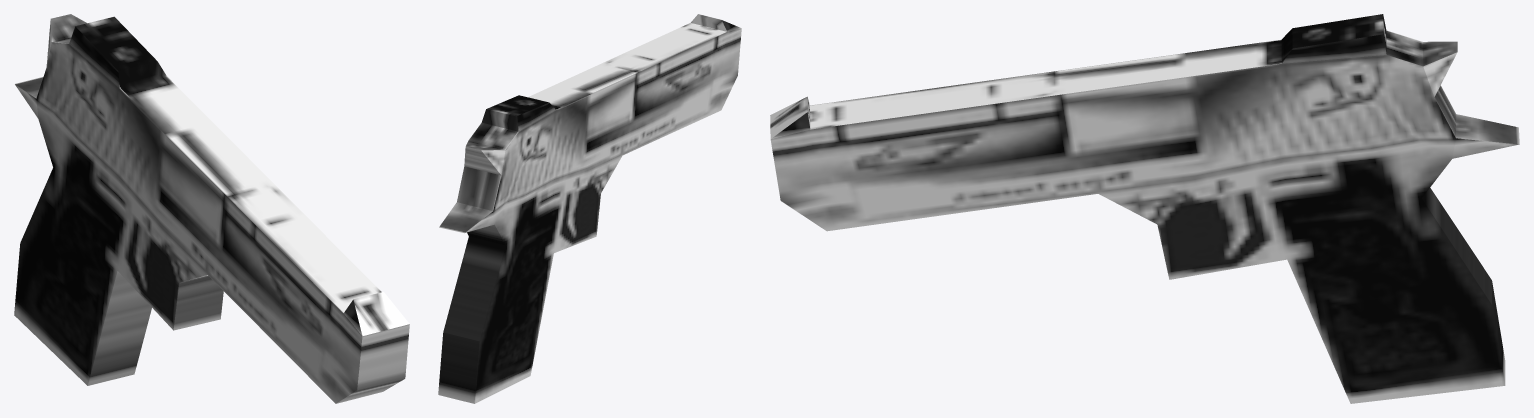
Rendered from deagle-world.glb.
3 renders of one model, left to right at view 1: azimuth 30°, elevation 25°; view 2: azimuth 150°, elevation 25°; view 3: azimuth 270°, elevation 25°, orthographic. The views are drawn at different scales.
Parts seen in each view (by area): view 1: deagle held.001; view 2: deagle held.001; view 3: deagle held.001.
Boxes of the visible parts, x1,y1,x2,y2 form: deagle held.001: (14,14,409,403); deagle held.001: (438,14,741,403); deagle held.001: (770,14,1519,403).
Size of the model in its own units: 0.0196 by 0.1312 by 0.2424.
Materials: 1 (1 with a texture image).
